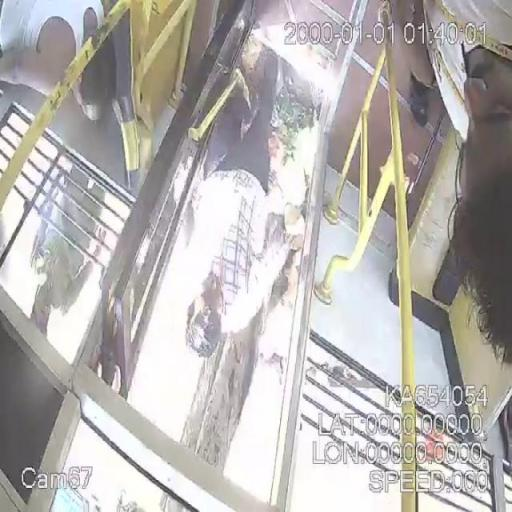persona: (174, 35, 320, 475), (420, 0, 512, 367)
